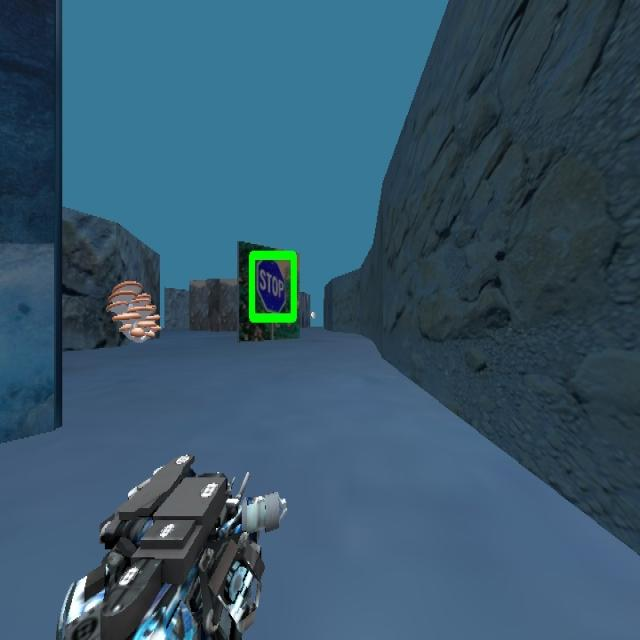Circle: (306, 307, 321, 323)
Diamon: (247, 248, 298, 324)
Mushroom: (105, 278, 161, 342)
